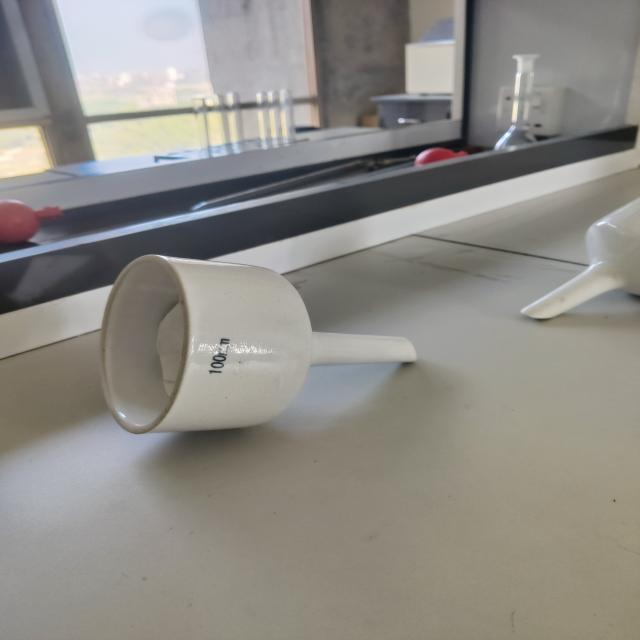Buchner_Funnel: (77, 211, 439, 458)
